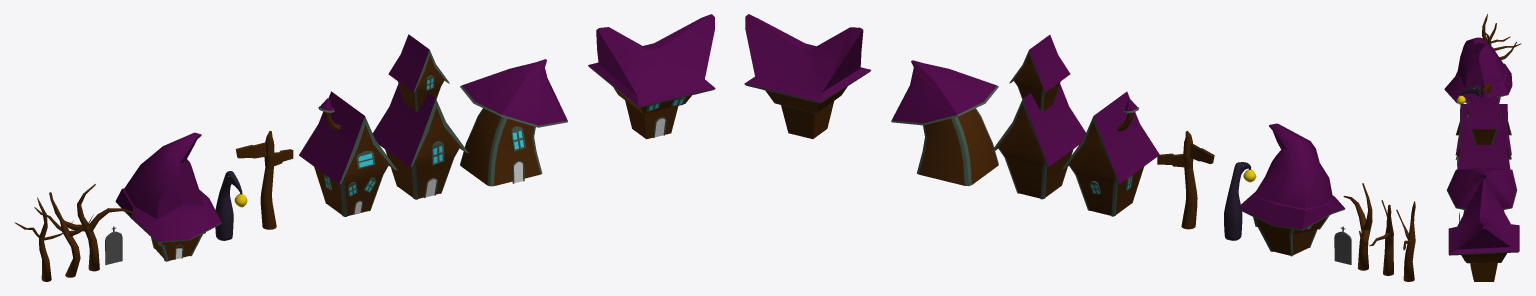
The model's file is Racing.fbx.
3 renders of one model, left to right at view 1: azimuth 30°, elevation 25°; view 2: azimuth 150°, elevation 25°; view 3: azimuth 270°, elevation 25°, orthographic. The views are drawn at different scales.
Parts seen in each view (by area): view 1: Cube.007, Cube.005, Cube.001, Cube.002, Cube.006, Cube.004, Cylinder.004, BirdStatue, Cylinder.001, Cylinder.003, Cylinder.005, Plane.005; view 2: Cube.007, Cube.005, Cube.001, Cube.002, Cube.006, Cube.004, Cylinder.004, BirdStatue, Cylinder.001, Cylinder.005, Cylinder.003, Plane.005; view 3: Cube.007, Cube.001, Cube.005, Cube.006, Cube.004, Cube.002, BirdStatue, Cylinder.005, Cylinder.003, Cylinder.001, Cylinder.004.
Part boxes in pixels (box(x1,y1,x2,y2)): Cube.007: box(588, 14, 715, 139); Cube.005: box(460, 59, 567, 186); Cube.001: box(115, 132, 221, 261); Cube.002: box(299, 91, 397, 216); Cube.006: box(372, 83, 468, 199); Cube.004: box(388, 34, 449, 112); Cylinder.004: box(236, 131, 293, 229); BirdStatue: box(215, 171, 247, 240); Cylinder.001: box(53, 184, 136, 271); Cylinder.003: box(34, 192, 93, 277); Cylinder.005: box(14, 197, 73, 281); Plane.005: box(105, 226, 122, 264); Cube.007: box(744, 14, 870, 138); Cube.005: box(891, 60, 998, 186); Cube.001: box(1237, 123, 1345, 256); Cube.002: box(1061, 91, 1159, 216); Cube.006: box(991, 84, 1085, 199); Cube.004: box(1009, 35, 1070, 112); Cylinder.004: box(1157, 131, 1214, 229); BirdStatue: box(1224, 162, 1256, 240); Cylinder.001: box(1343, 183, 1372, 270); Cylinder.005: box(1396, 201, 1415, 281); Cylinder.003: box(1369, 200, 1393, 275); Plane.005: box(1334, 226, 1351, 264); Cube.007: box(1448, 179, 1519, 281); Cube.001: box(1444, 37, 1512, 103); Cube.005: box(1446, 167, 1517, 214); Cube.006: box(1455, 128, 1511, 169); Cube.004: box(1466, 97, 1501, 144); Cube.002: box(1455, 90, 1511, 155); BirdStatue: box(1456, 85, 1481, 104); Cylinder.005: box(1482, 14, 1510, 43); Cylinder.003: box(1487, 23, 1521, 50); Cylinder.001: box(1483, 31, 1516, 59); Cylinder.004: box(1480, 83, 1491, 94).
Bounding box in the file's own units: 3055 × 642 × 432.
